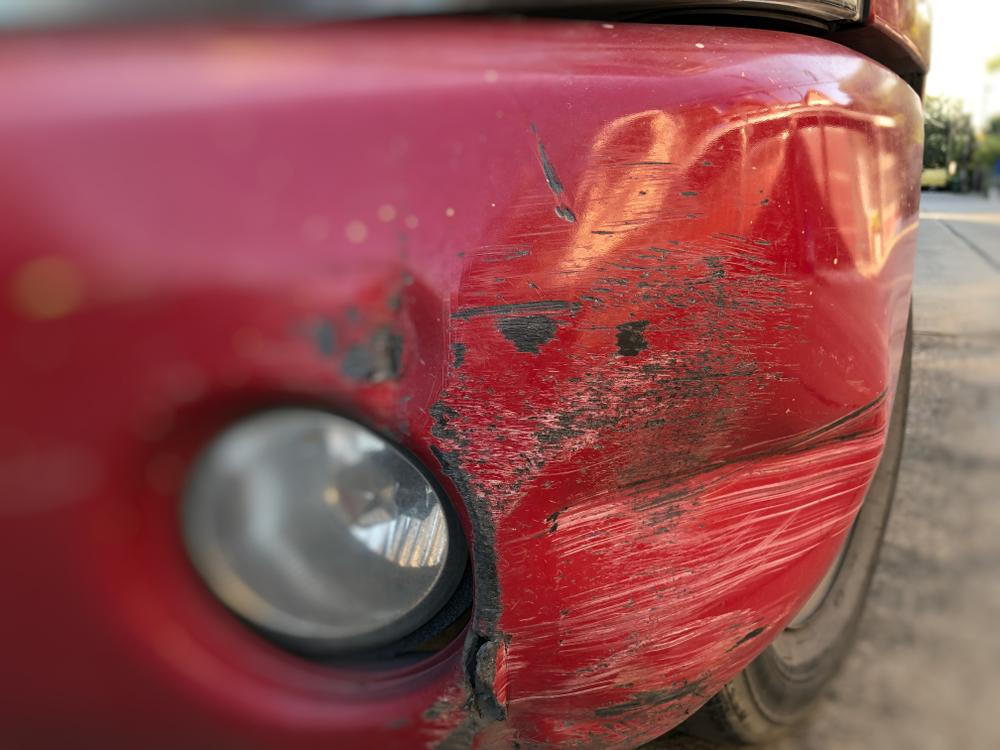dent: (564, 381, 798, 540)
scratch: (421, 147, 884, 747)
